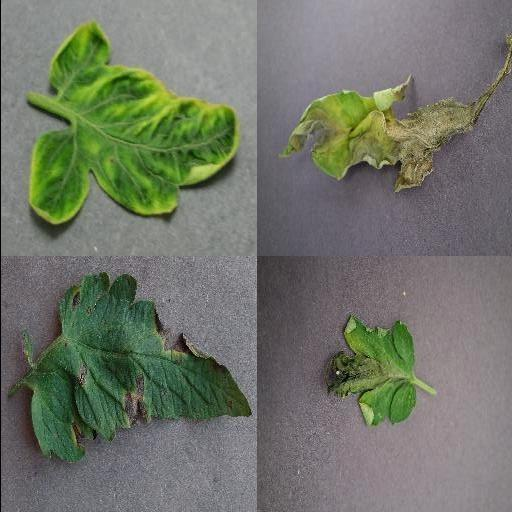Early Blight: (23, 277, 253, 462)
Late Blight: (278, 34, 512, 194), (320, 317, 416, 431)
Yellow Leaf Curl Virus: (28, 19, 240, 227)
